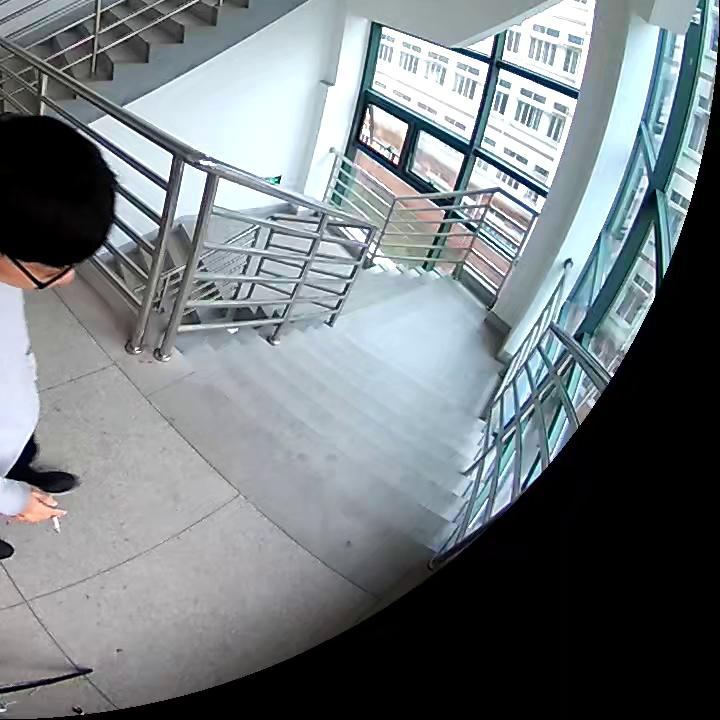handsmoke: (14, 489, 69, 535)
mouthwithoutsmoke: (1, 111, 117, 296)
